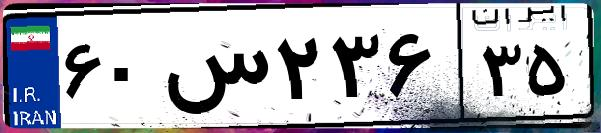0: (110, 28, 158, 98)
2: (270, 28, 330, 110)
3: (330, 28, 385, 110), (475, 38, 525, 113)
5: (525, 38, 570, 115)
6: (385, 28, 445, 110), (57, 26, 110, 100)
س: (158, 20, 270, 120)
